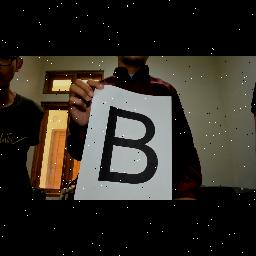b: (98, 97, 160, 193)
